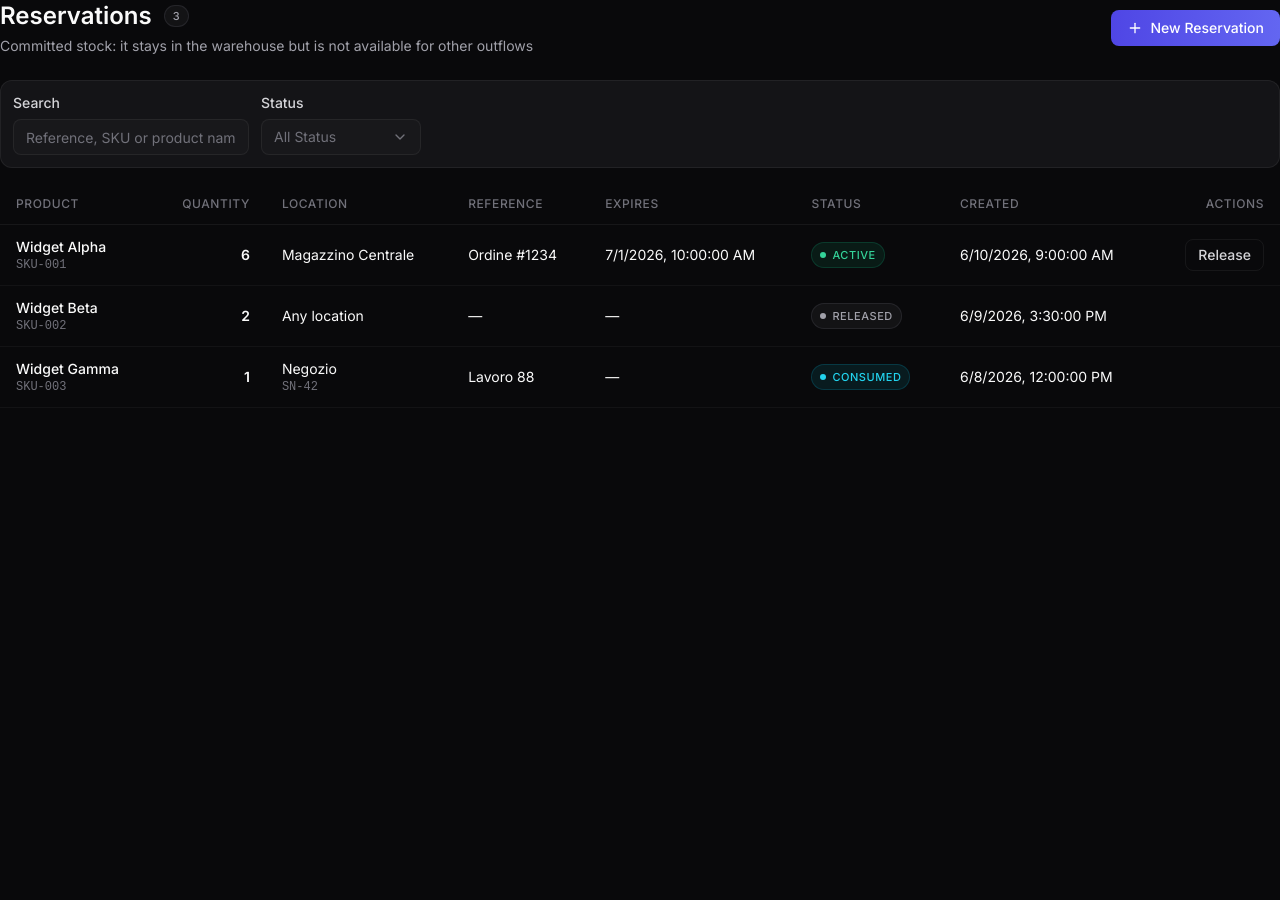
Test: ReservationList release flow › shows an error toast when the release fails
Step 1. Click the button with test id "release-res-001" → (1225, 255), box left=1185, top=239, right=1264, bottom=271
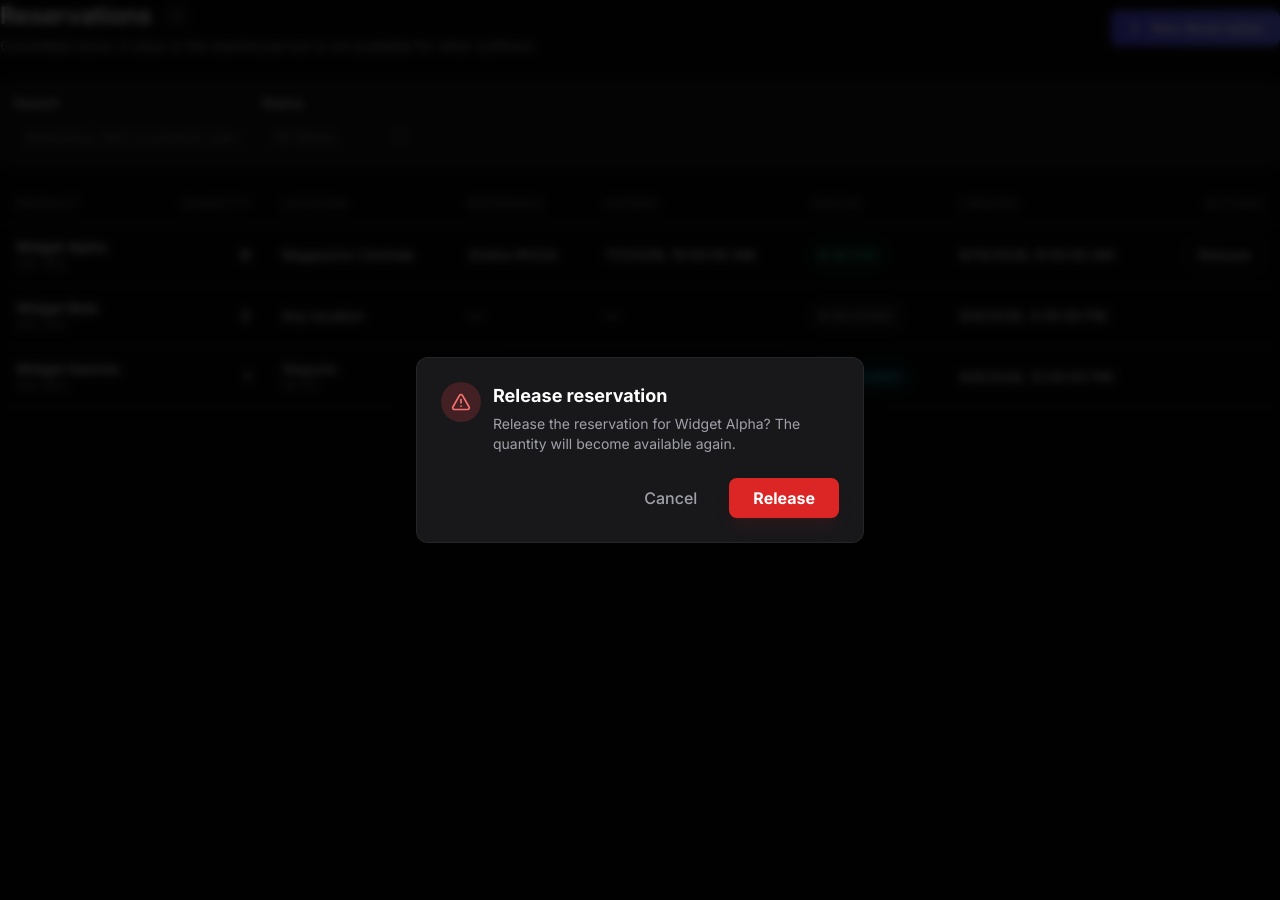
Result: the element with test id "confirm-dialog" is shown at left=416, top=357, right=864, bottom=543
Step 2. Click the button with test id "confirm-dialog-confirm" → (784, 498), box left=729, top=478, right=839, bottom=518
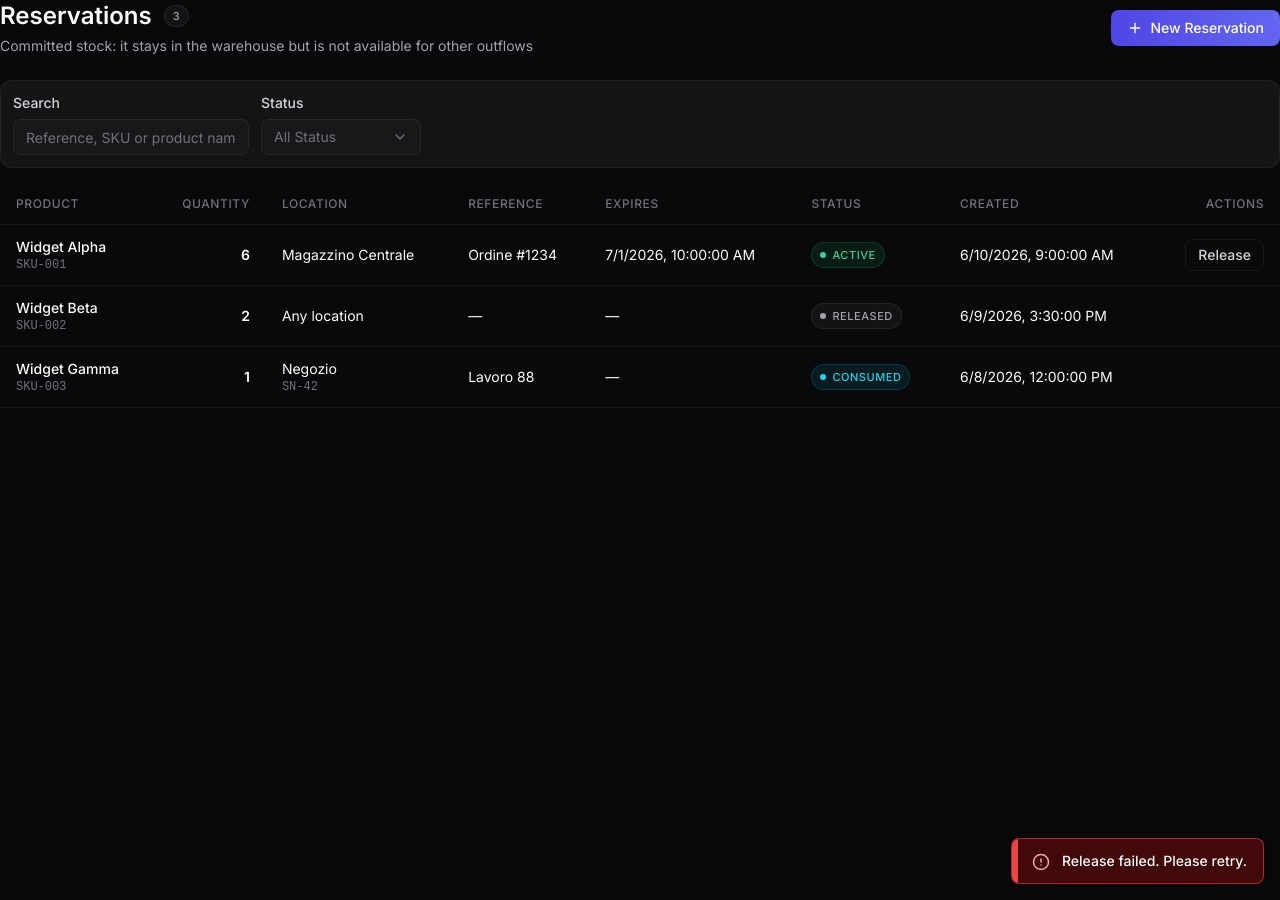
Result: the button with test id "toast" shows "Release failed" at left=1011, top=838, right=1264, bottom=884
